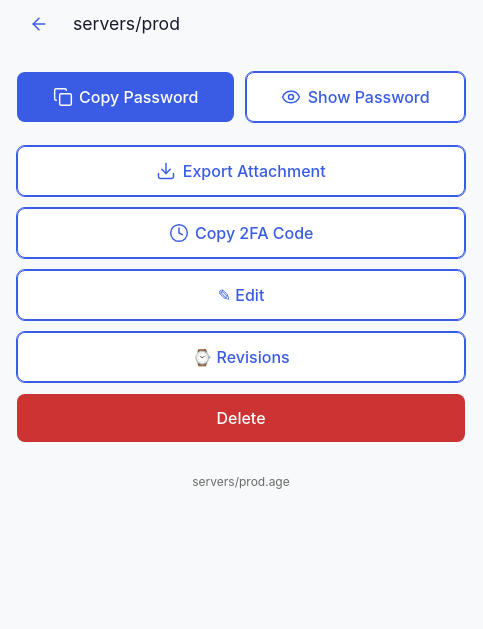
Test case: EntryDetailPage › showPassword › displays password and notes after reveal
Click the button with aria-label "Show password": coordinates (356, 97) [246,72,465,122]
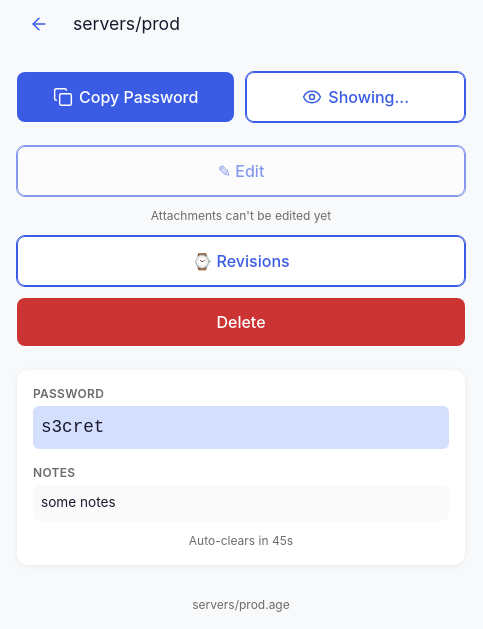
Check: the text "s3cret" is shown, box [33,406,449,449]
Check: the text "some notes" is shown, box [33,485,449,521]
